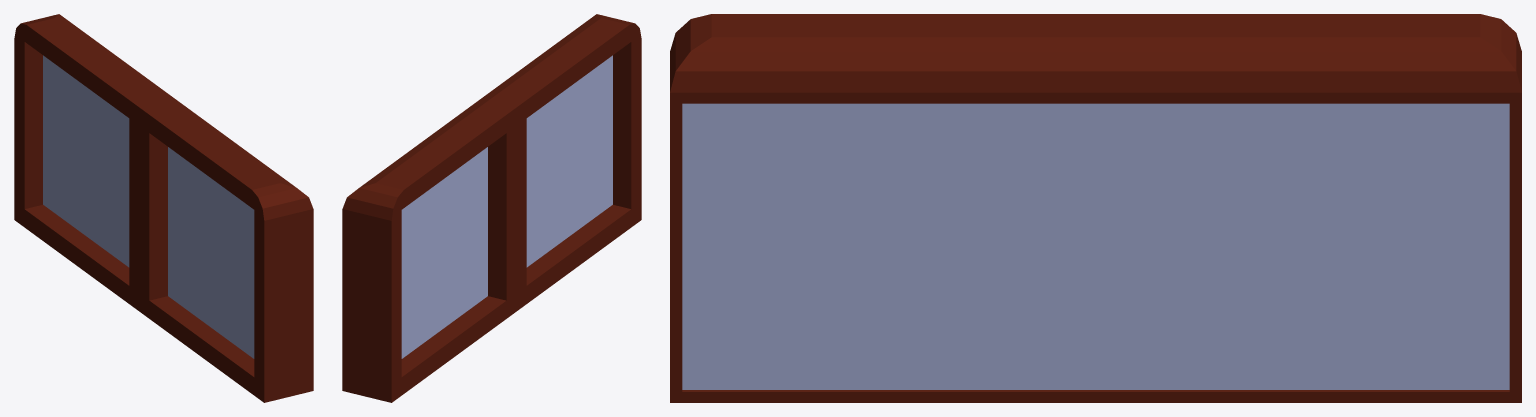
Rendered from ScoreBoard.fbx.
The picture shows the model from 3 angles, left to right: view 1: azimuth 30°, elevation 25°; view 2: azimuth 150°, elevation 25°; view 3: azimuth 270°, elevation 25°; orthographic projection. The views are drawn at different scales.
Parts seen in each view (by area): view 1: ScoreBoard; view 2: ScoreBoard; view 3: ScoreBoard.
Part boxes in pixels (x1,y1,x2,y2): ScoreBoard: (14, 14, 313, 402); ScoreBoard: (342, 14, 641, 402); ScoreBoard: (670, 14, 1521, 402).
Bounding box in the file's own units: 10.26 × 40.64 × 90.15.
